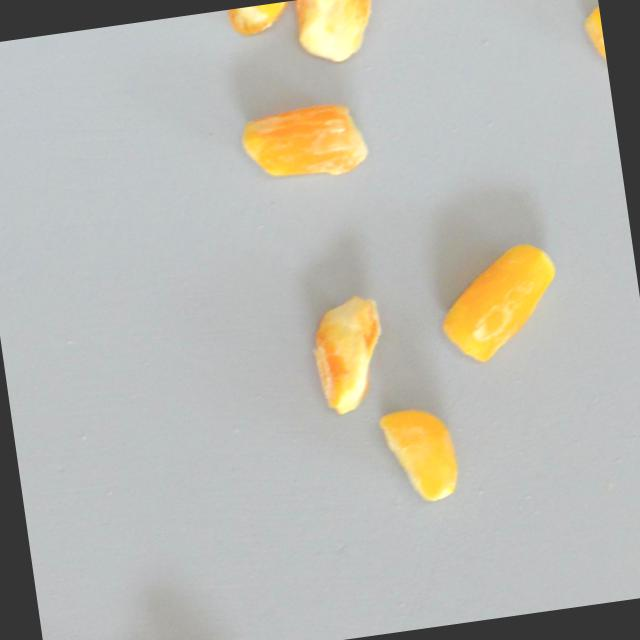dañado: (425, 235, 570, 372), (232, 92, 377, 190), (302, 288, 399, 422), (373, 401, 465, 515), (289, 0, 396, 72), (221, 0, 310, 44), (575, 2, 609, 79)
